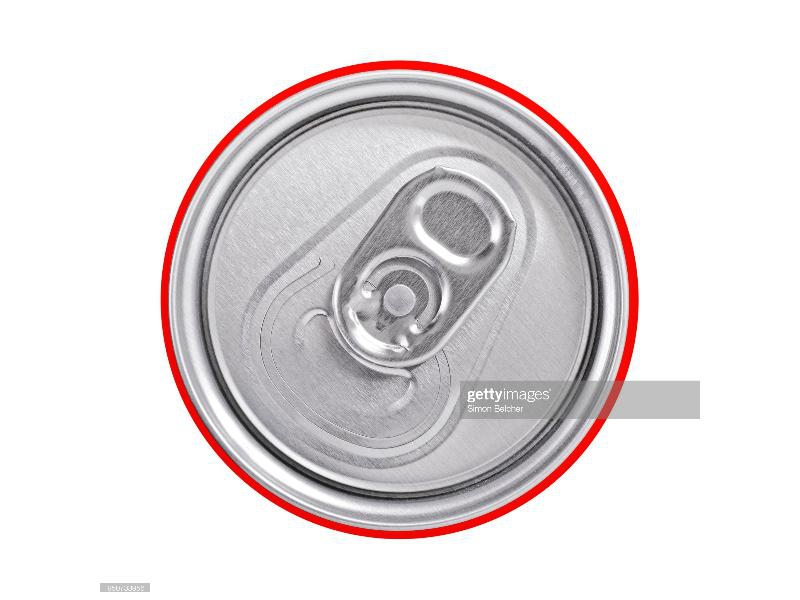can: (155, 58, 641, 544)
